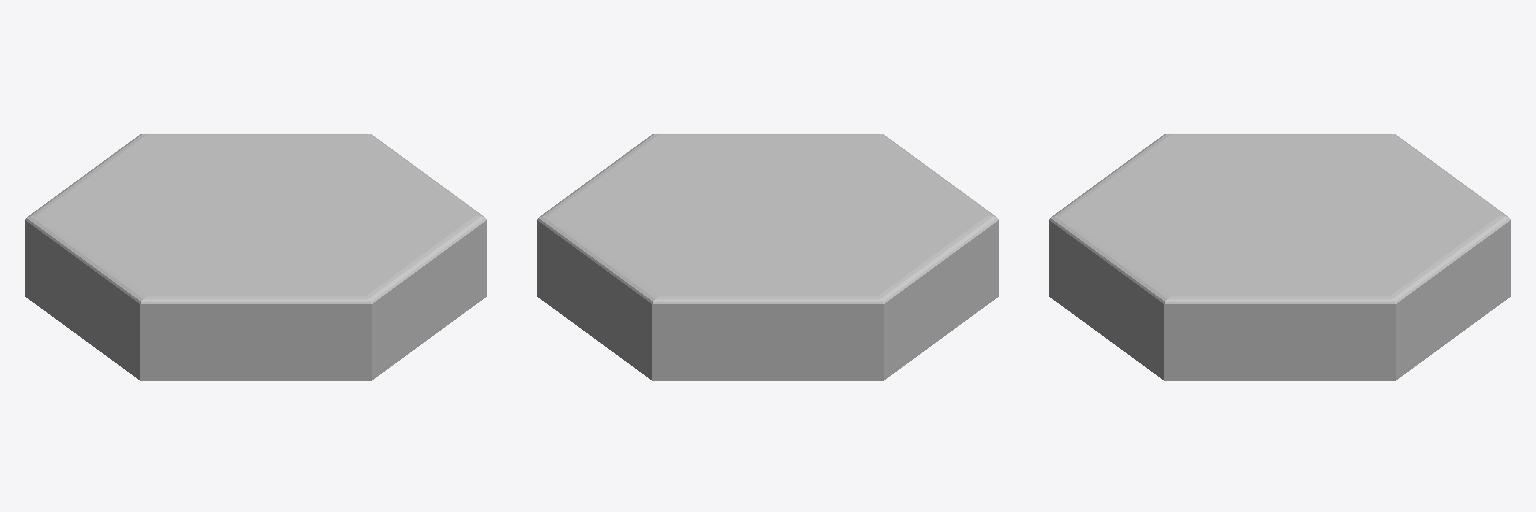
The model's file is Hex.obj.
3 renders of one model, left to right at view 1: azimuth 30°, elevation 25°; view 2: azimuth 150°, elevation 25°; view 3: azimuth 270°, elevation 25°, orthographic.
Visible parts, largest first — view 1: hex_HexMesh; view 2: hex_HexMesh; view 3: hex_HexMesh.
Part boxes in pixels (left/top/right/bottom): hex_HexMesh: left=25, top=134, right=486, bottom=380; hex_HexMesh: left=537, top=134, right=998, bottom=380; hex_HexMesh: left=1049, top=134, right=1510, bottom=380.
Size of the model in its own units: 2 by 0.4437 by 2.31.